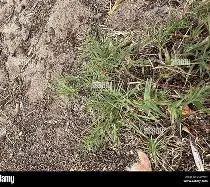weed: (58, 3, 209, 164)
